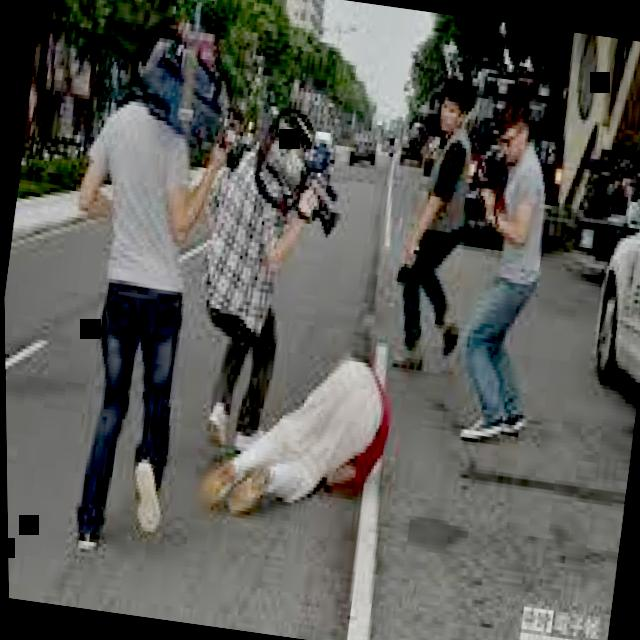Fall-Detected: (188, 284, 410, 542)
